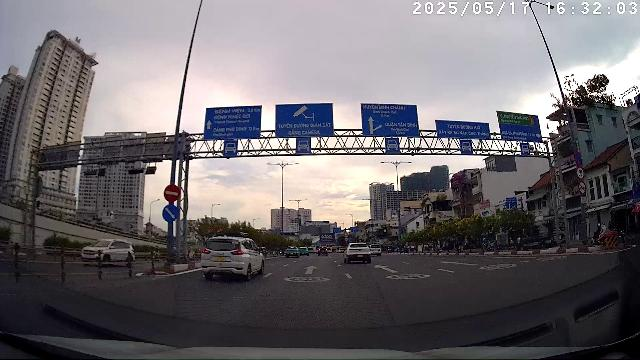127-toc-do-toi-da-60: (576, 167, 584, 179)
